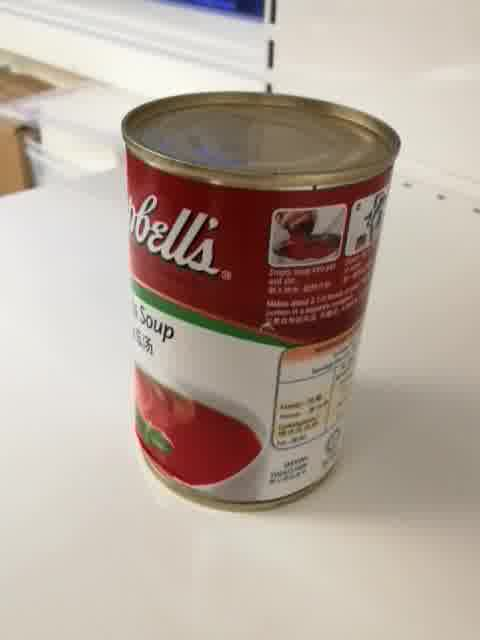tomatosoup: (120, 88, 402, 515)
